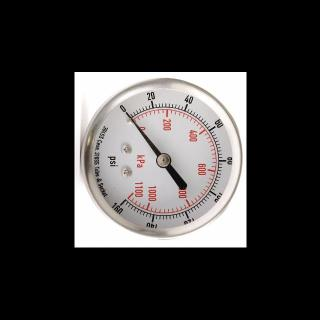gauge: (74, 71, 246, 247), (116, 103, 138, 125), (113, 196, 131, 212), (156, 152, 172, 168), (124, 110, 132, 118)
